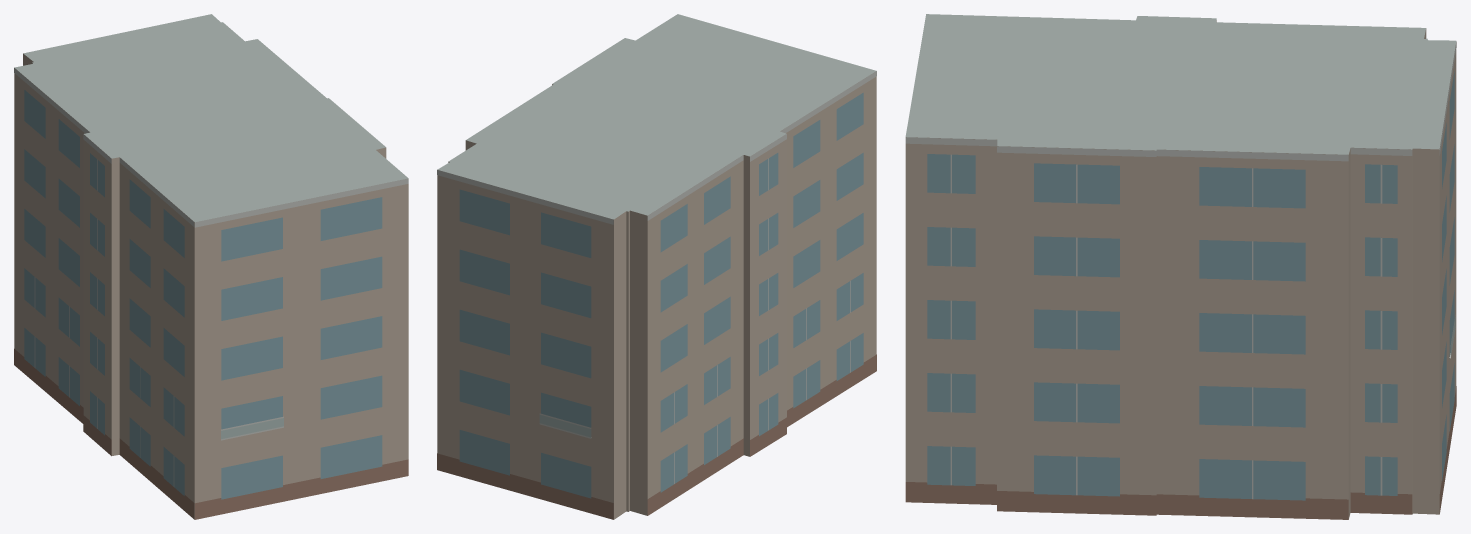
The model's file is survey-upis-32676403.glb.
3 renders of one model, left to right at view 1: azimuth 30°, elevation 25°; view 2: azimuth 150°, elevation 25°; view 3: azimuth 270°, elevation 25°, orthographic. The views are drawn at different scales.
Parts seen in each view (by area): view 1: survey-upis-32676403.tmp; view 2: survey-upis-32676403.tmp; view 3: survey-upis-32676403.tmp.
Boxes of the visible parts, x1=… form: survey-upis-32676403.tmp: x1=14, y1=14, x2=408, y2=519; survey-upis-32676403.tmp: x1=437, y1=14, x2=876, y2=519; survey-upis-32676403.tmp: x1=905, y1=14, x2=1456, y2=519.
Size of the model in its own units: 11.17 by 13.5 by 18.47.
